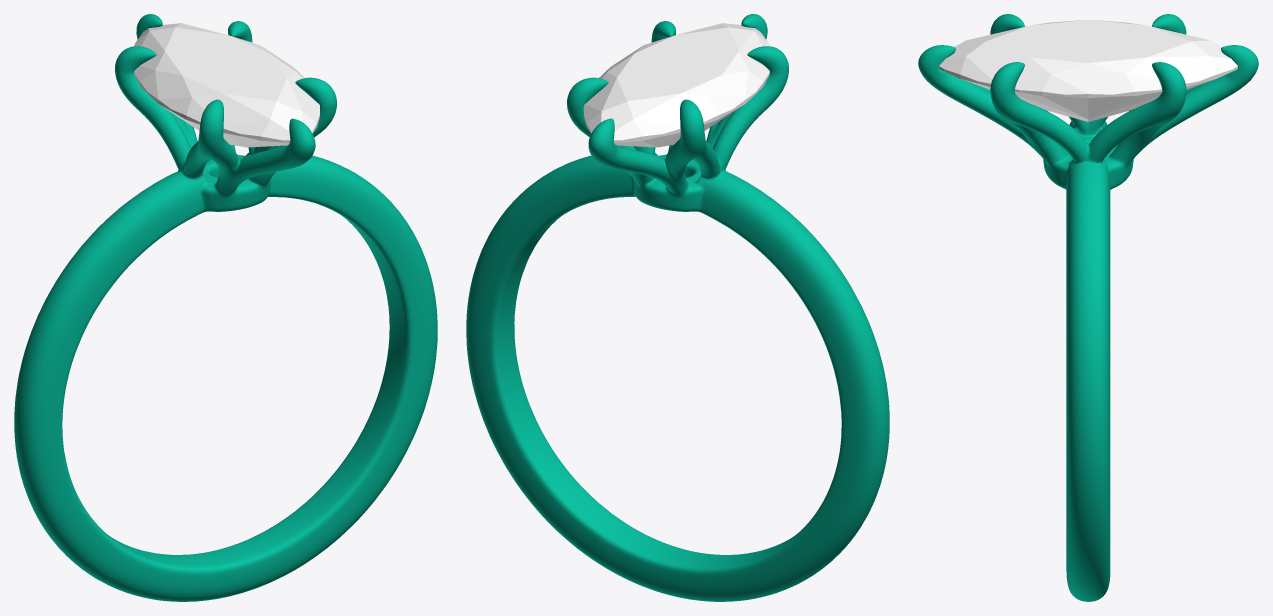
Rendered from BE1D1961_MQ_200ct_RENDER.glb.
3 views of the same model, side by side, from view 1: azimuth 30°, elevation 25°; view 2: azimuth 150°, elevation 25°; view 3: azimuth 270°, elevation 25° (orthographic).
Visible parts, largest first — view 1: Metal 01, CS_Diamond_Marquise; view 2: Metal 01, CS_Diamond_Marquise; view 3: Metal 01, CS_Diamond_Marquise.
Part boxes in pixels (x1,y1,x2,y2): Metal 01: (14,14,437,601); CS_Diamond_Marquise: (134,23,319,147); Metal 01: (466,14,889,601); CS_Diamond_Marquise: (584,23,769,147); Metal 01: (918,14,1258,601); CS_Diamond_Marquise: (939,19,1237,121).
Size of the model in its own units: 20.11 by 24.47 by 14.
